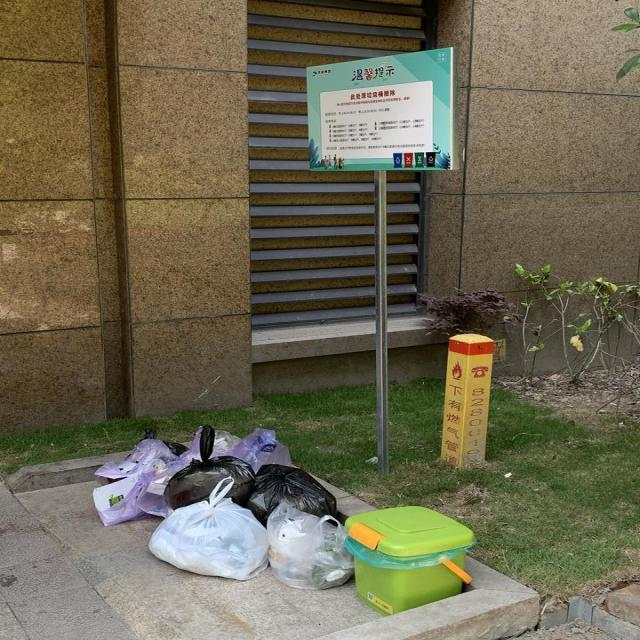garbage: (91, 421, 353, 588)
